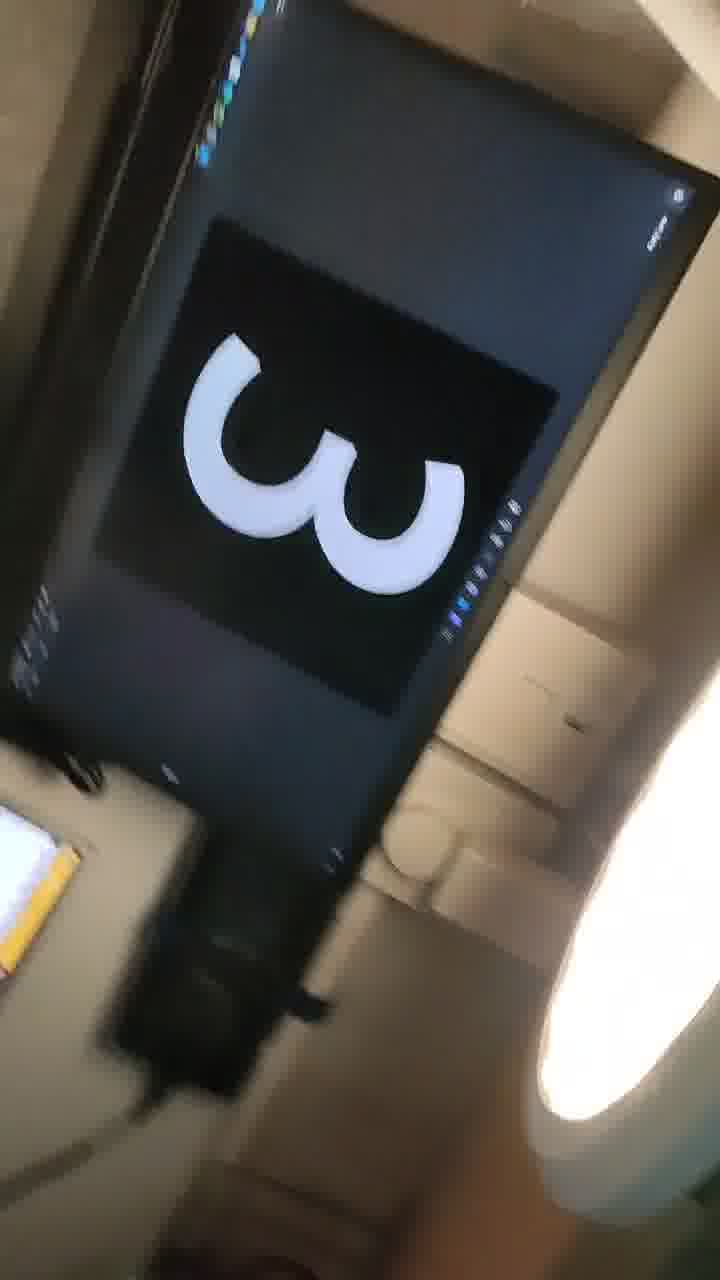three: (178, 305, 537, 675)
